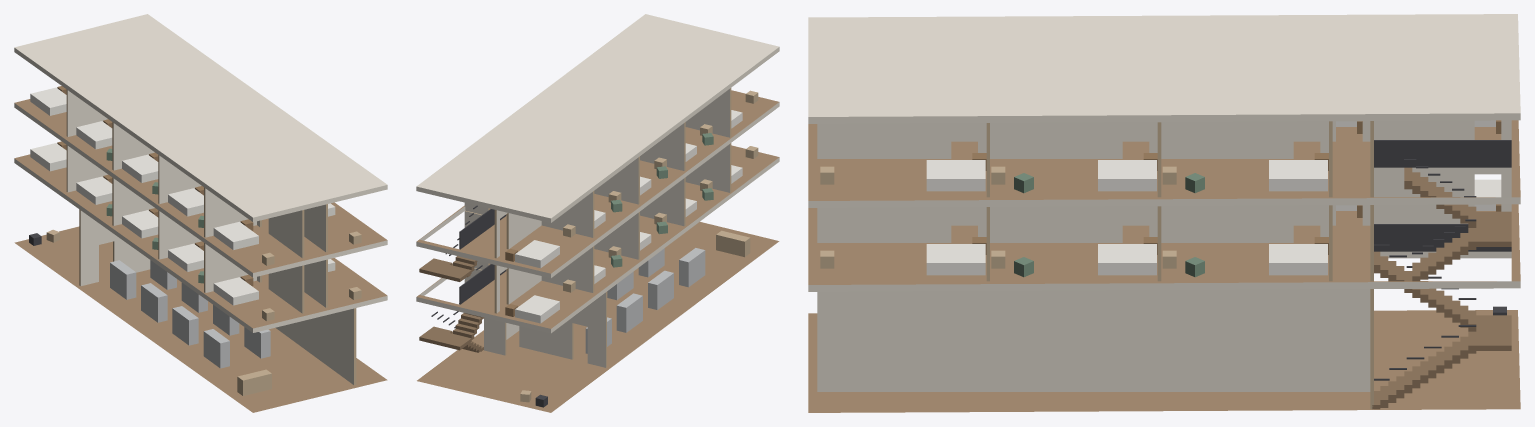
Rendered from interior.glb.
The picture shows the model from 3 angles, left to right: view 1: azimuth 30°, elevation 25°; view 2: azimuth 150°, elevation 25°; view 3: azimuth 270°, elevation 25°; orthographic projection. The views are drawn at different scales.
Visible parts, largest first — view 1: slabs, partitions, coarse-s0, coarse-s1, coarse-s2; view 2: slabs, partitions, coarse-s0, stair, coarse-s2, coarse-s1; view 3: slabs, partitions, stair, coarse-s1, coarse-s2.
Boxes of the visible parts, bbox=[...] form: slabs: bbox=[14, 14, 387, 412]; partitions: bbox=[66, 90, 356, 385]; coarse-s0: bbox=[29, 229, 271, 395]; coarse-s1: bbox=[30, 141, 361, 321]; coarse-s2: bbox=[30, 86, 361, 265]; slabs: bbox=[416, 14, 779, 412]; partitions: bbox=[464, 88, 731, 367]; coarse-s0: bbox=[520, 230, 750, 407]; stair: bbox=[419, 205, 506, 352]; coarse-s2: bbox=[505, 90, 758, 268]; coarse-s1: bbox=[505, 146, 758, 323]; slabs: bbox=[808, 14, 1520, 412]; partitions: bbox=[817, 120, 1511, 409]; stair: bbox=[1372, 140, 1511, 409]; coarse-s1: bbox=[820, 179, 1501, 277]; coarse-s2: bbox=[820, 120, 1501, 193].
Size of the model in its own units: 8.23 by 11.04 by 24.04.
